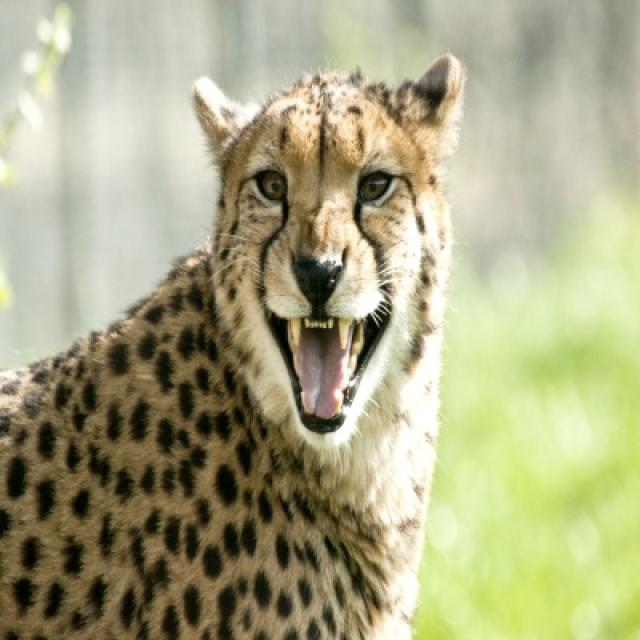Cheetah: (3, 55, 467, 638)
